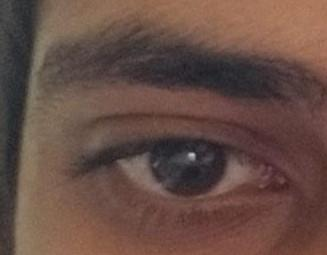open: (42, 107, 313, 236)
